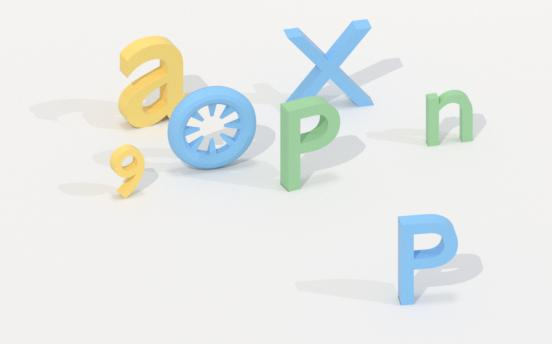9: (108, 144, 151, 201)
a: (115, 37, 189, 129)
n: (421, 89, 479, 147)
p: (394, 214, 463, 308), (280, 93, 343, 194)
tron: (161, 88, 263, 170)
x: (278, 21, 379, 111)
